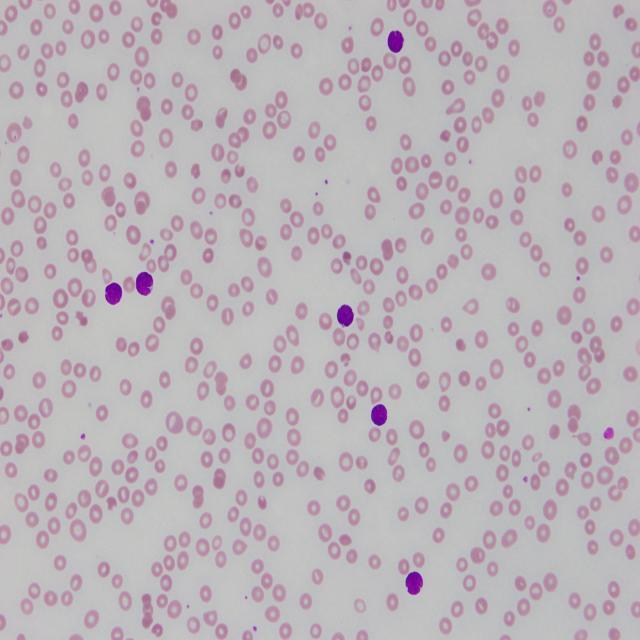cell: (405, 572, 424, 595), (136, 272, 154, 295), (105, 282, 122, 305), (371, 403, 388, 425), (388, 30, 404, 53), (338, 305, 354, 327)
